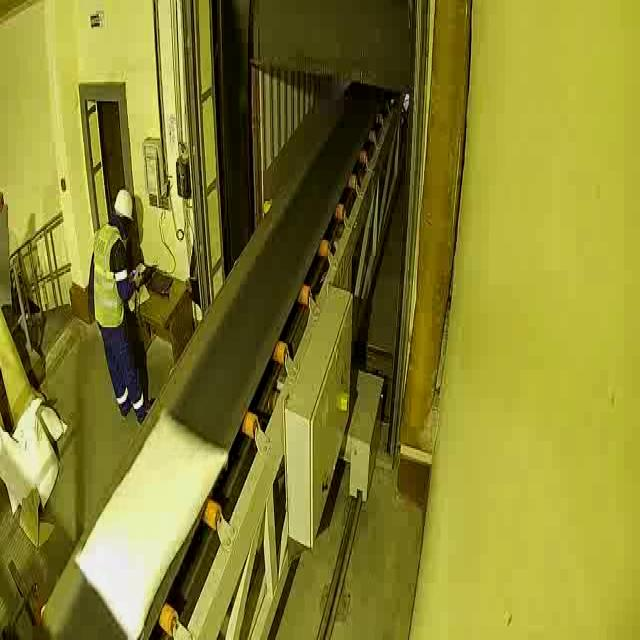bag: (72, 400, 229, 635)
